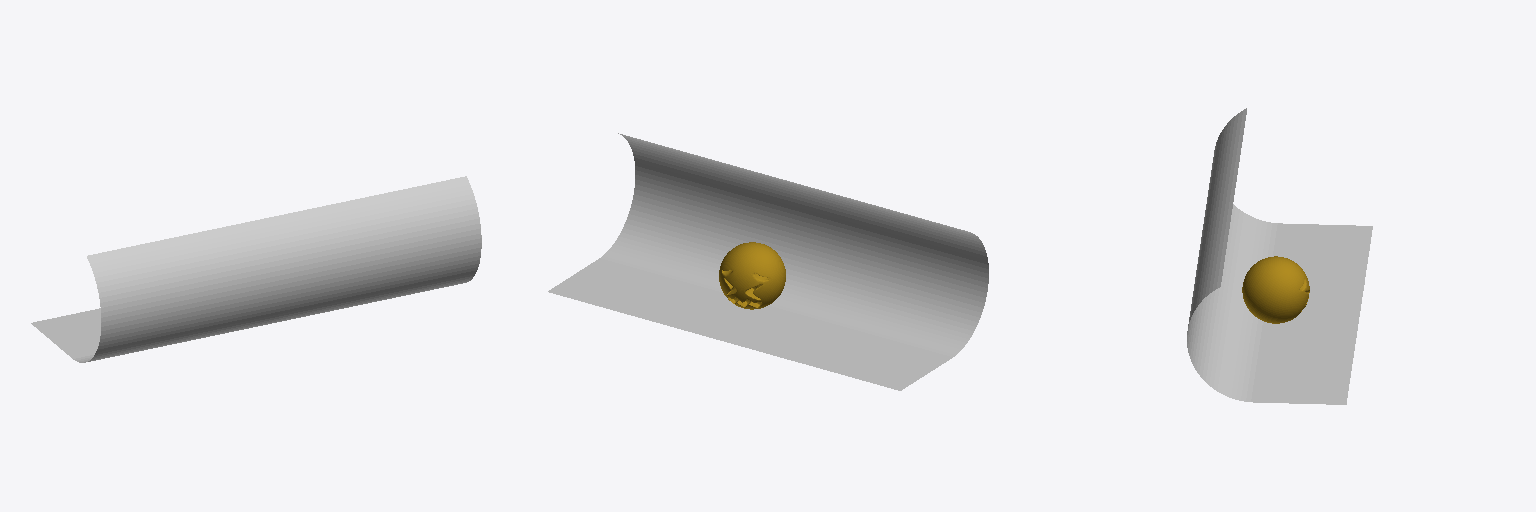
The model's file is confounded.obj.
3 views of the same model, side by side, from view 1: azimuth 30°, elevation 25°; view 2: azimuth 150°, elevation 25°; view 3: azimuth 270°, elevation 25° (orthographic).
Parts seen in each view (by area): view 1: Plane001; view 2: Plane001, Group59187; view 3: Plane001, Group59187.
Part boxes in pixels (x1,y1,x2,y2): Plane001: (31, 176, 481, 362); Plane001: (548, 133, 988, 390); Group59187: (719, 242, 785, 309); Plane001: (1187, 108, 1372, 404); Group59187: (1242, 256, 1309, 323).
Bounding box in the file's own units: 1.33 × 0.3881 × 0.5709.